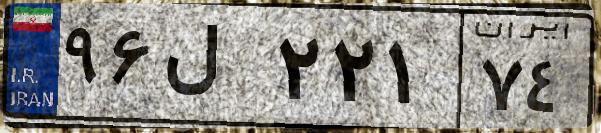1: (385, 28, 445, 110)
2: (270, 28, 330, 110), (330, 28, 385, 110)
4: (525, 38, 570, 115)
6: (110, 28, 158, 98)
7: (475, 38, 525, 113)
9: (57, 26, 110, 100)
ل: (158, 20, 270, 120)
